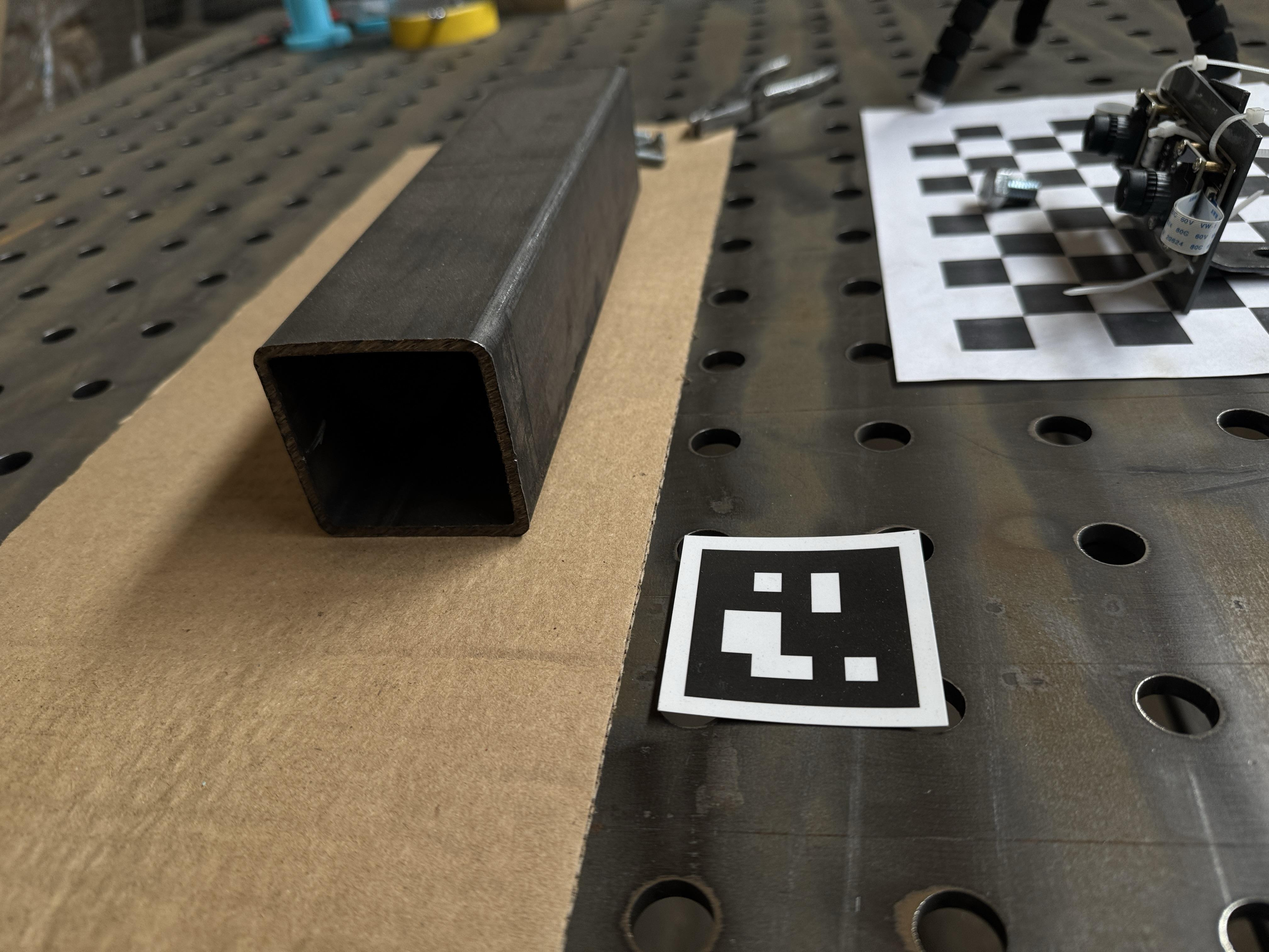detail: (254, 65, 641, 539)
